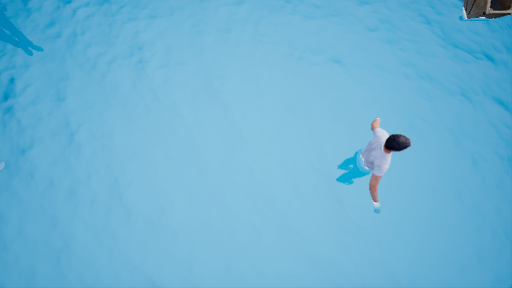person: (322, 127, 422, 213)
